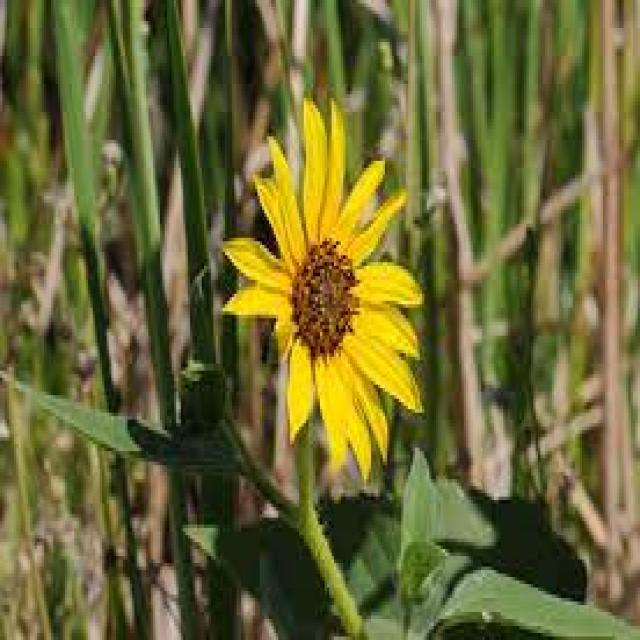sunflower: (211, 89, 438, 489)
